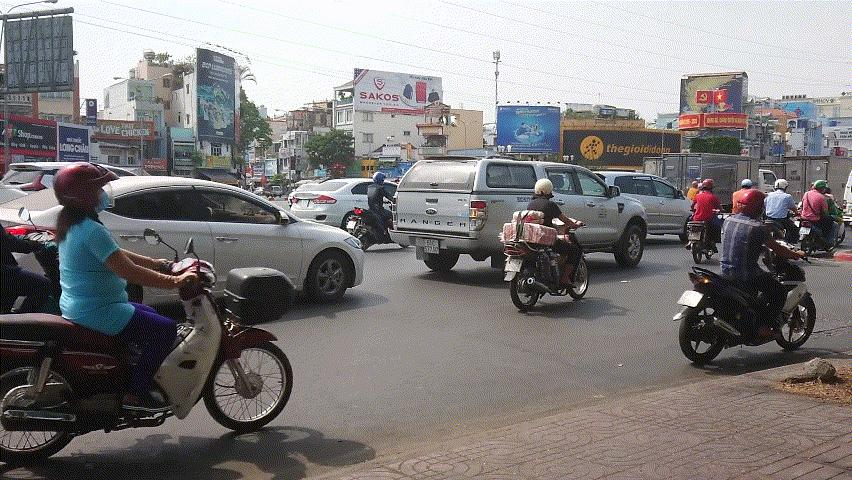driver: (0, 161, 292, 468), (673, 189, 816, 365), (500, 177, 590, 312), (345, 171, 410, 252), (682, 177, 727, 264), (798, 179, 847, 257)
helmet: (53, 160, 122, 217), (738, 191, 767, 221), (535, 177, 554, 199), (372, 171, 387, 186), (775, 178, 789, 193), (813, 179, 827, 194), (702, 178, 714, 193), (742, 178, 753, 189)
